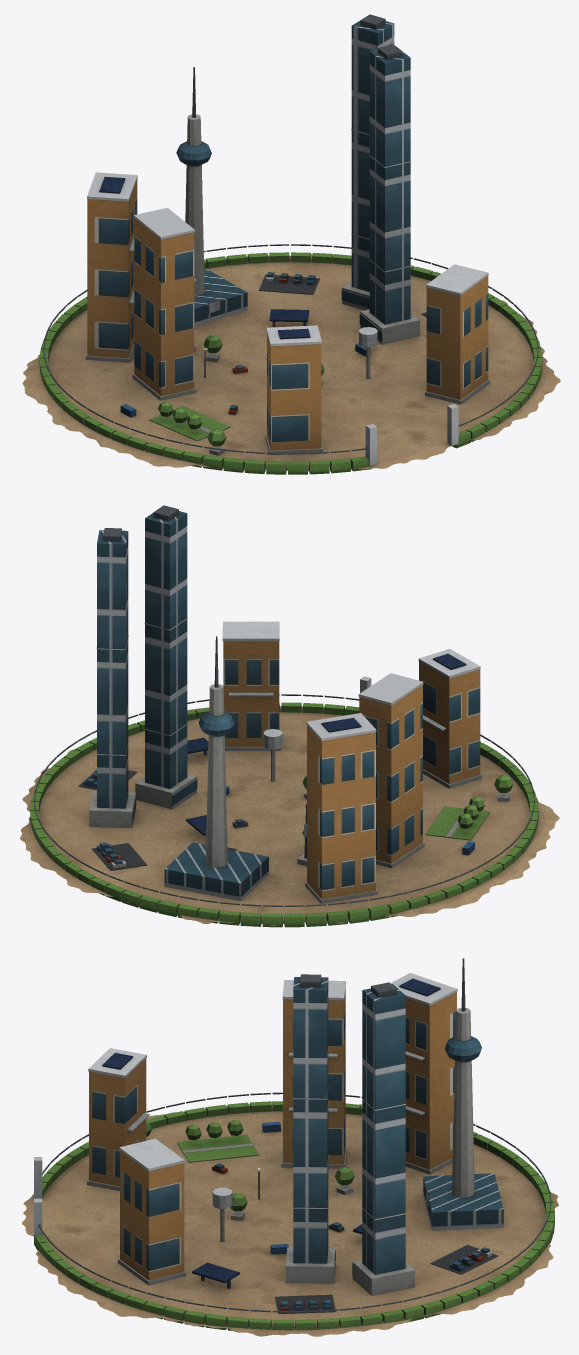
Rendered from information-town-small-b-indic.glb.
3 renders of one model, top to bottom at view 1: azimuth 30°, elevation 25°; view 2: azimuth 150°, elevation 25°; view 3: azimuth 270°, elevation 25°, orthographic. The views are drawn at different scales.
Parts seen in each view (by area): view 1: LOD0; view 2: LOD0; view 3: LOD0.
Part boxes in pixels (<box>): LOD0: <box>22,14,560,474</box>; LOD0: <box>20,505,559,927</box>; LOD0: <box>22,958,558,1336</box>.
Size of what is drawn, in the model's own units: 3.96 by 2.3 by 3.84.
3 materials, 3 textured.
